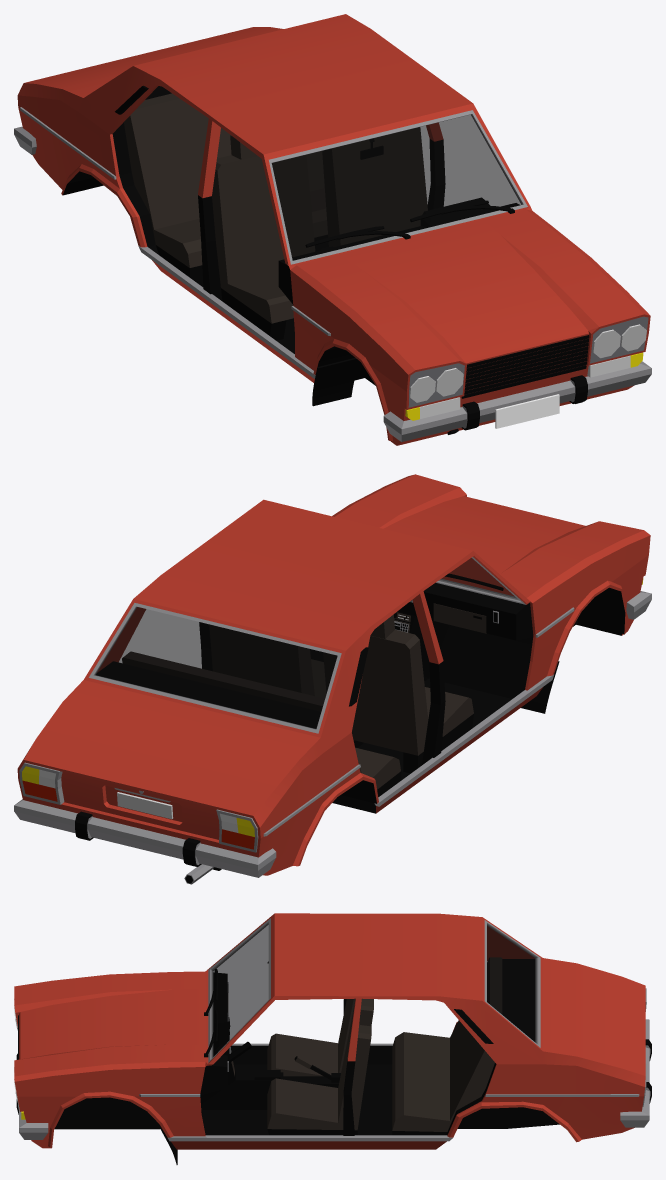
Rendered from mdl_car04_body.fbx.
3 views of the same model, one above another, from view 1: azimuth 30°, elevation 25°; view 2: azimuth 150°, elevation 25°; view 3: azimuth 270°, elevation 25° (orthographic). The views are drawn at different scales.
Visible parts, largest first — view 1: mdl_car02_body; view 2: mdl_car02_body; view 3: mdl_car02_body.
Part boxes in pixels (x1,y1,x2,y2): mdl_car02_body: (14, 14, 651, 445); mdl_car02_body: (14, 474, 651, 884); mdl_car02_body: (14, 913, 651, 1164).
Bounding box in the file's own units: 165 × 129 × 451.
